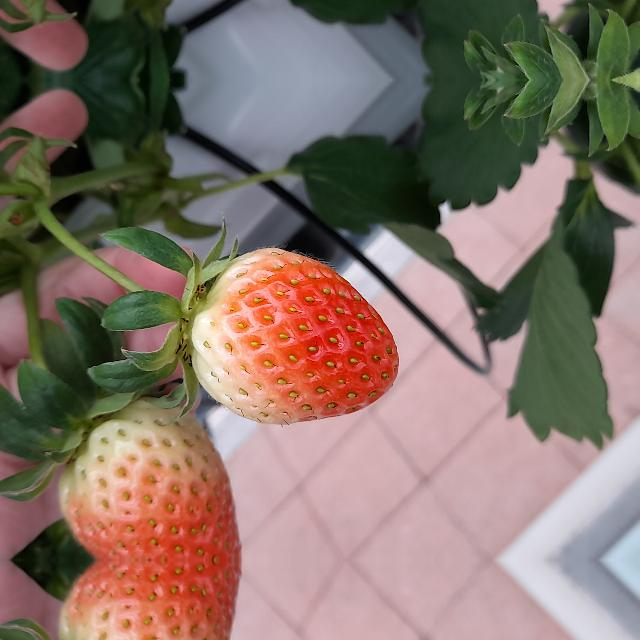Health_75: (192, 248, 398, 424), (52, 396, 244, 560), (52, 560, 244, 640)
